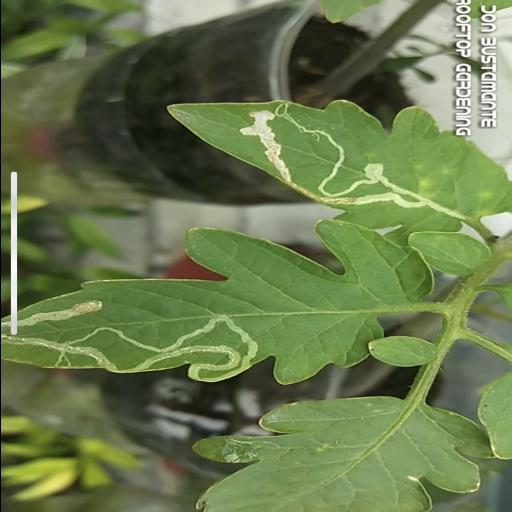Leaf Miner: (0, 219, 434, 382), (162, 100, 512, 229)
